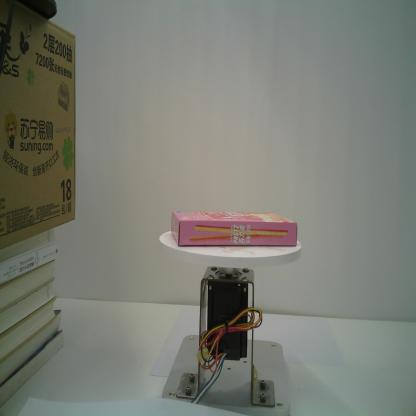Dessert: (171, 206, 297, 246)
